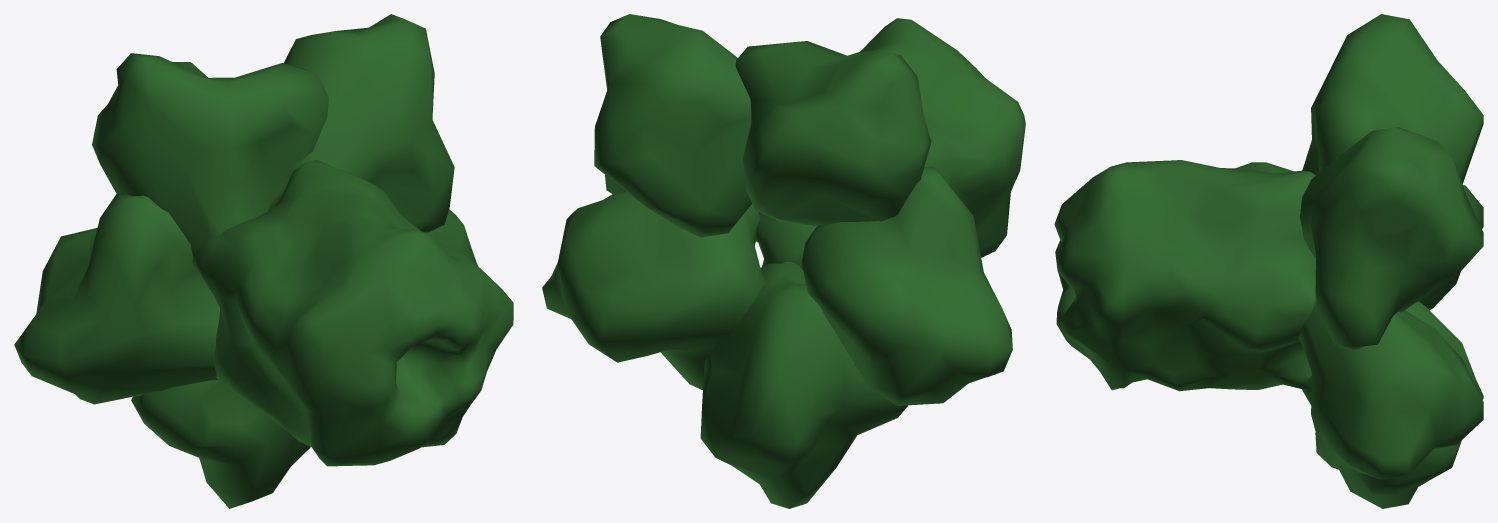
Rendered from HIV1_VPU.dae.
3 renders of one model, left to right at view 1: azimuth 30°, elevation 25°; view 2: azimuth 150°, elevation 25°; view 3: azimuth 270°, elevation 25°, orthographic. The views are drawn at different scales.
Parts seen in each view (by area): view 1: CoarseMS_1vpu (×5), CoarseMS_1PI7all; view 2: CoarseMS_1vpu (×5), CoarseMS_1PI7all; view 3: CoarseMS_1vpu (×5), CoarseMS_1PI7all.
Boxes of the visible parts, x1,y1,x2,y2 form: CoarseMS_1vpu (×5): [14, 14, 477, 508]; CoarseMS_1PI7all: [194, 160, 513, 466]; CoarseMS_1vpu (×5): [542, 14, 1012, 508]; CoarseMS_1PI7all: [756, 18, 1025, 270]; CoarseMS_1vpu (×5): [1298, 14, 1483, 508]; CoarseMS_1PI7all: [1054, 160, 1315, 391].
Size of the model in its own units: 0.5807 by 0.5679 by 0.4948.
